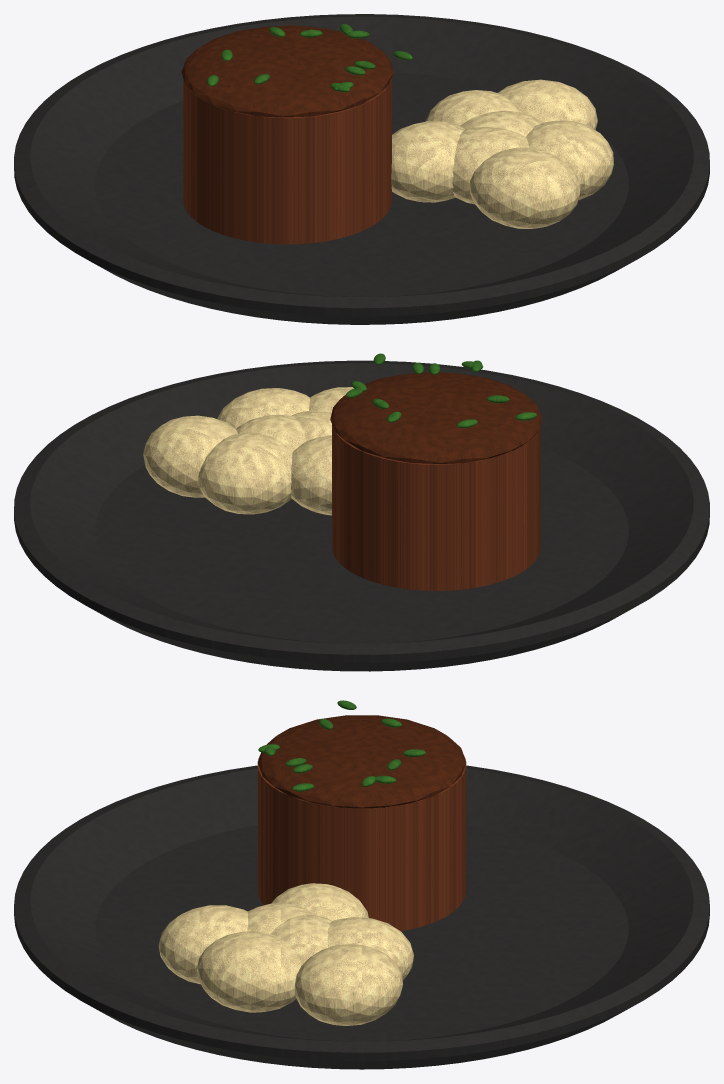
The model's file is lomo-salsa-cafe.glb.
3 views of the same model, one above another, from view 1: azimuth 30°, elevation 25°; view 2: azimuth 150°, elevation 25°; view 3: azimuth 270°, elevation 25° (orthographic).
Visible parts, largest first — view 1: part0, part1, part3, part2, part4; view 2: part0, part1, part3, part2, part4; view 3: part0, part3, part1, part2, part4.
Part boxes in pixels (bbox=[...]): part0: bbox=[14, 14, 709, 324]; part1: bbox=[183, 78, 391, 244]; part3: bbox=[391, 79, 613, 228]; part2: bbox=[181, 25, 393, 117]; part4: bbox=[206, 24, 412, 92]; part0: bbox=[14, 360, 709, 671]; part1: bbox=[332, 424, 540, 590]; part3: bbox=[143, 387, 353, 515]; part2: bbox=[330, 372, 542, 463]; part4: bbox=[345, 353, 536, 428]; part0: bbox=[14, 765, 709, 1069]; part3: bbox=[158, 883, 413, 1025]; part1: bbox=[257, 756, 466, 931]; part2: bbox=[257, 715, 466, 808]; part4: bbox=[258, 700, 425, 791].
Size of the model in its own units: 0.3 by 0.0835 by 0.3.
Materials: 5 (5 with a texture image).
